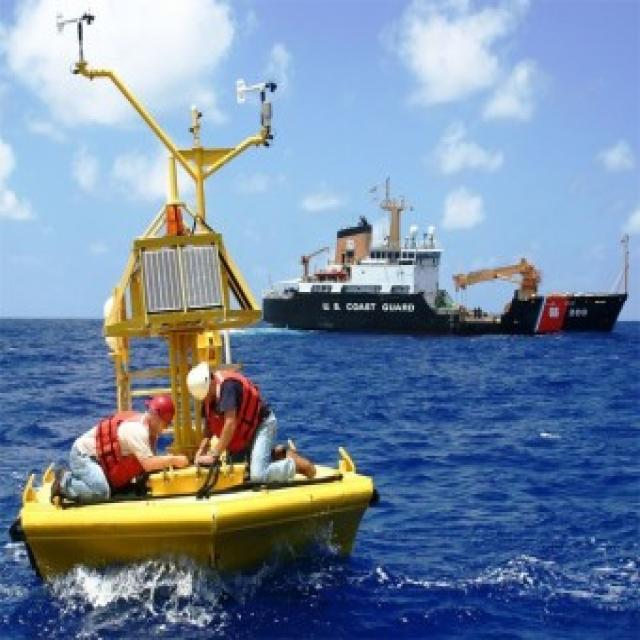2.5 sepcial mark: (17, 4, 387, 598)
